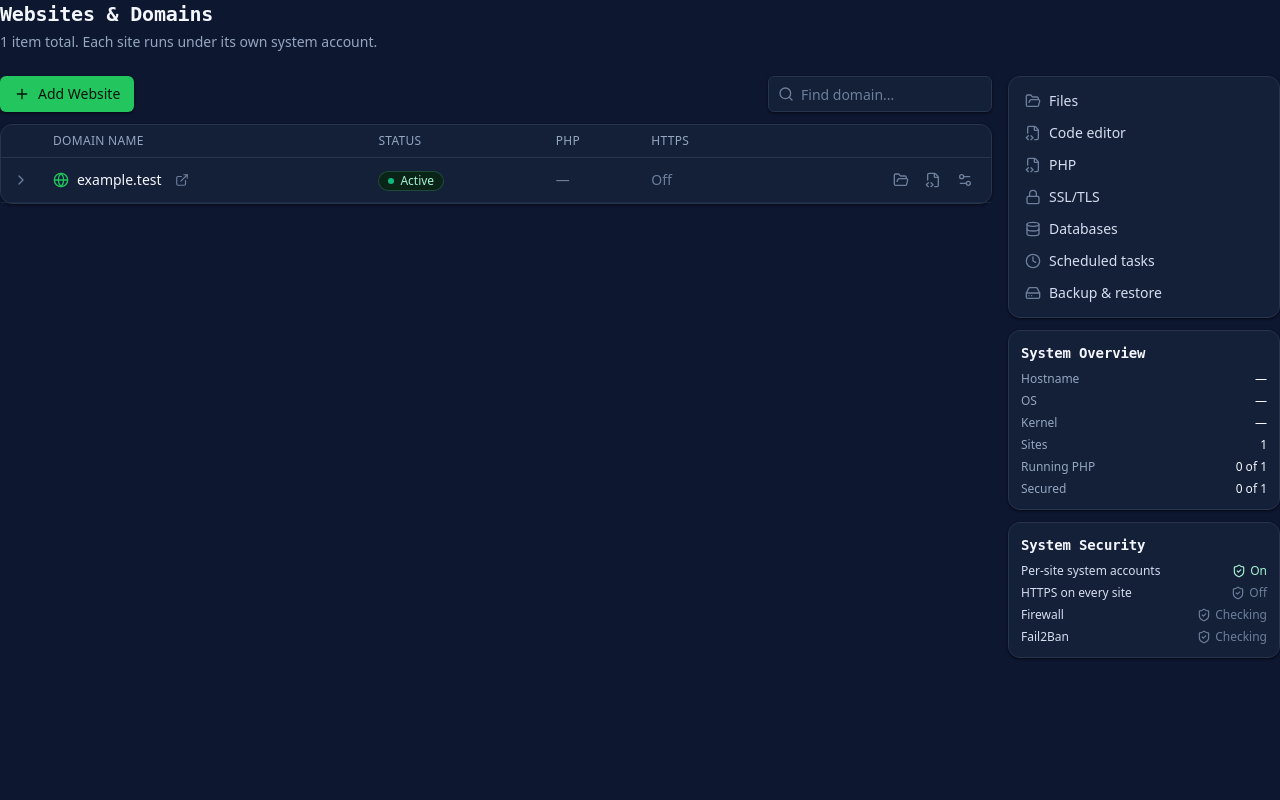
WebsitesPage domain panel › opens a domain panel in place
Step 1. Click the button "example.test" → (119, 180), box [77,170,162,190]
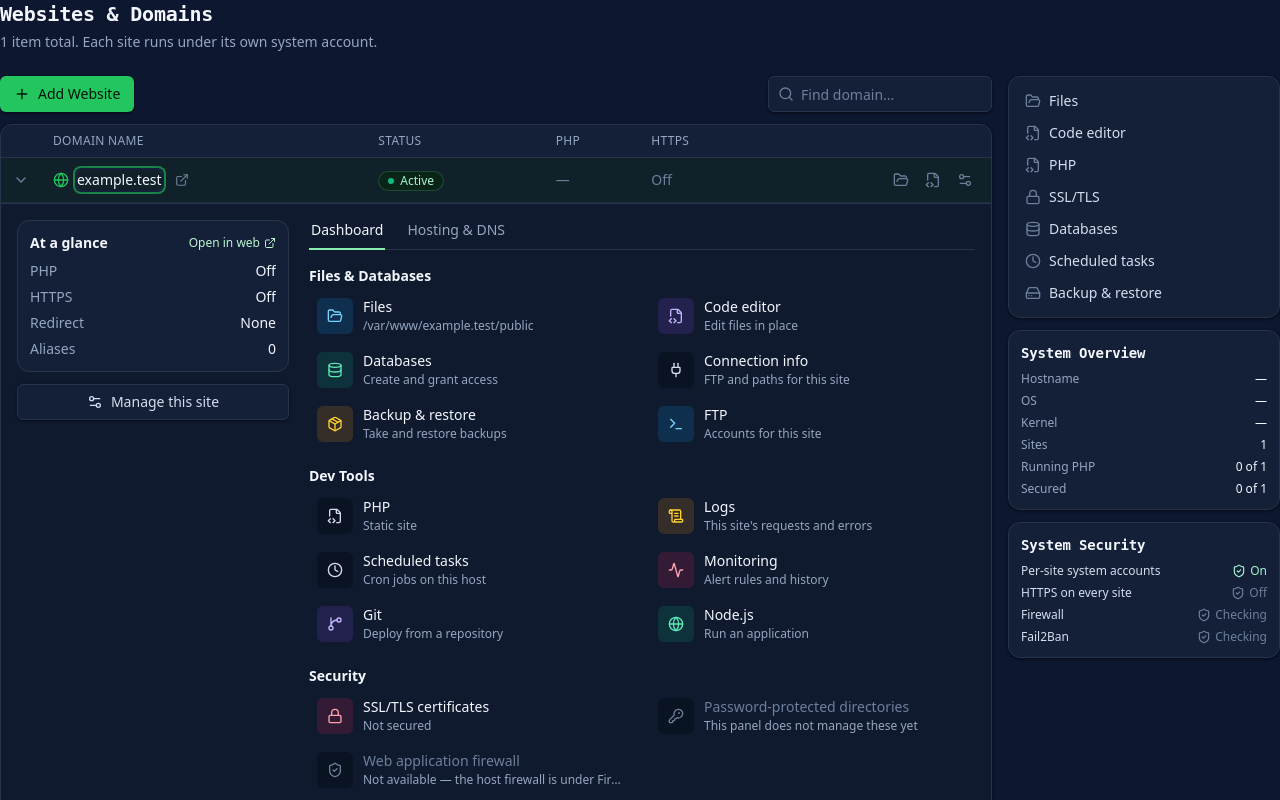
Result: the tab "Dashboard" is shown at [309,220,386,250]
Result: the tab "Hosting & DNS" is shown at [406,220,507,250]
Result: the heading "Files & Databases" is shown at [309,266,431,285]
